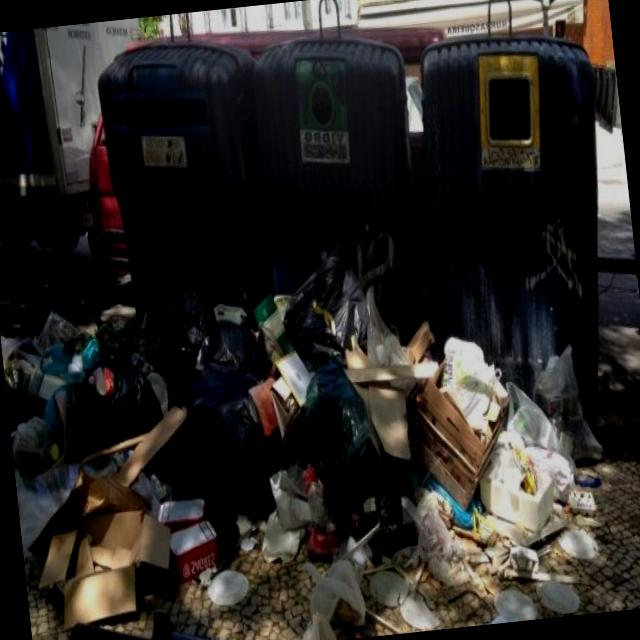garbage: (0, 231, 611, 640)
